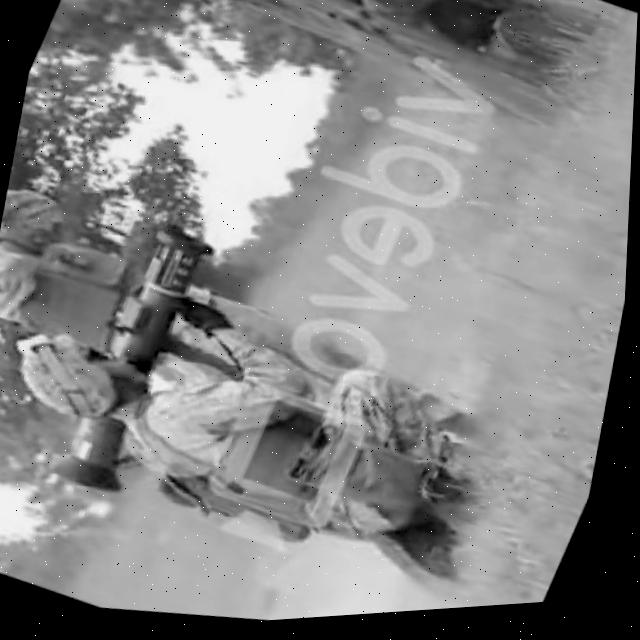rocket: (38, 209, 228, 506)
